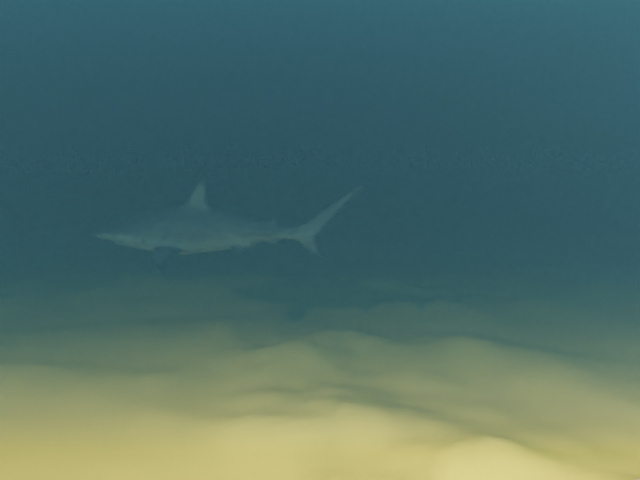Carribean Shark.001: (94, 178, 363, 270)
